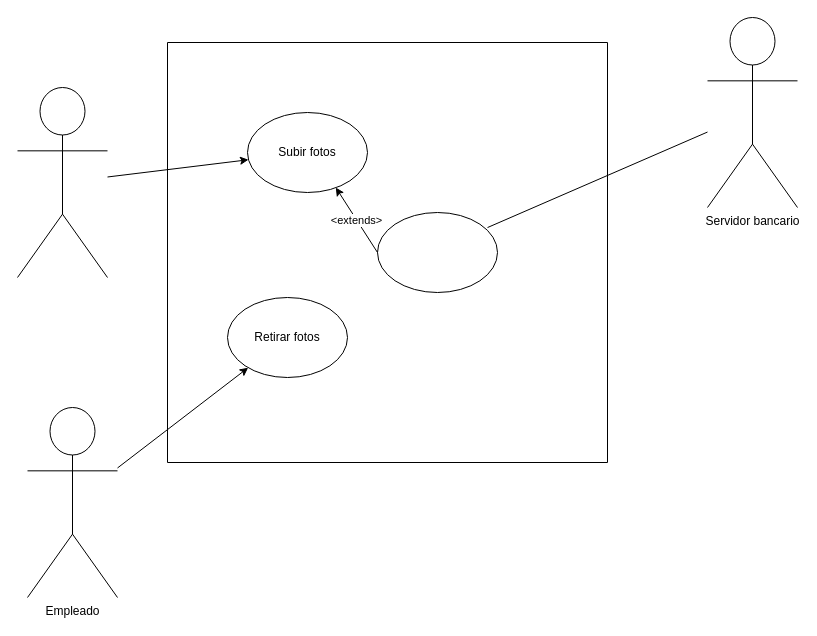
Some shapes in this 817 by 636 pixel diagram are drawn without their labels. The shapes that lost their labels are listed below. From the top down, each one's box as (x1, y1, x2, y2) in pixels, then its label:
(16, 86, 108, 278): Clente
(376, 212, 498, 292): Pagar con tarjeta
